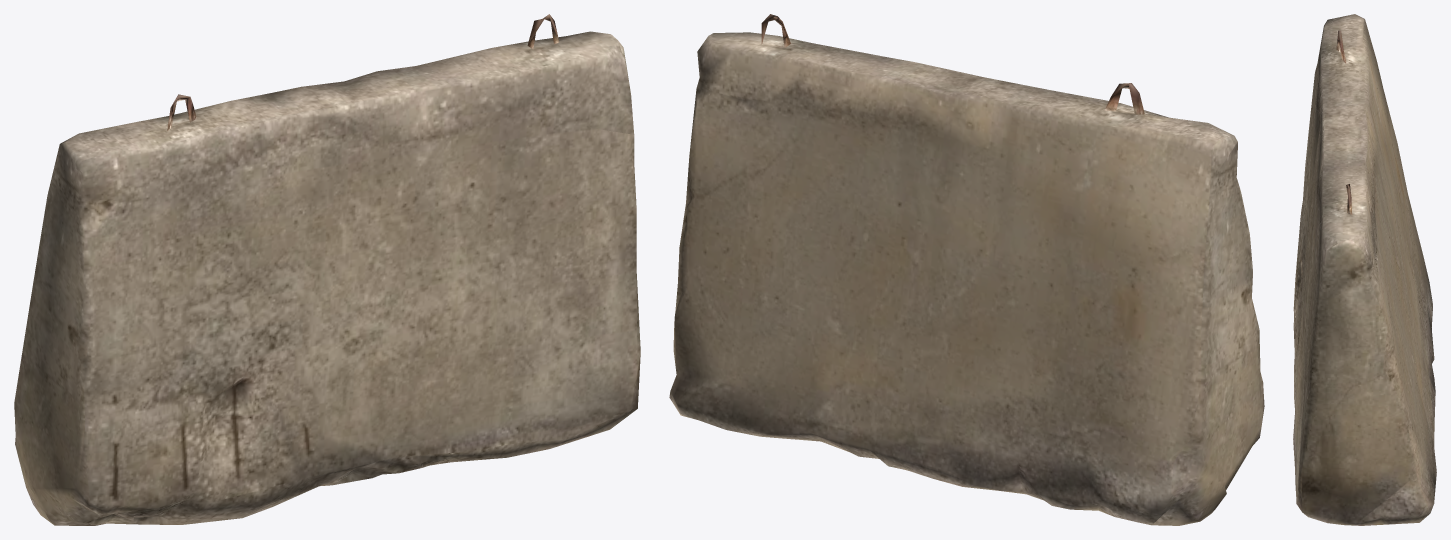
The model's file is concrete_road_barrier_02.glb.
3 renders of one model, left to right at view 1: azimuth 30°, elevation 25°; view 2: azimuth 150°, elevation 25°; view 3: azimuth 270°, elevation 25°, orthographic. The views are drawn at different scales.
Parts seen in each view (by area): view 1: concrete_road_barrier_02; view 2: concrete_road_barrier_02; view 3: concrete_road_barrier_02.
Boxes of the visible parts, bbox=[...] form: concrete_road_barrier_02: bbox=[14, 14, 640, 525]; concrete_road_barrier_02: bbox=[669, 14, 1264, 525]; concrete_road_barrier_02: bbox=[1293, 14, 1436, 525].
Size of the model in its own units: 1.56 by 1.11 by 0.437.
Materials: 1 (1 with a texture image).
